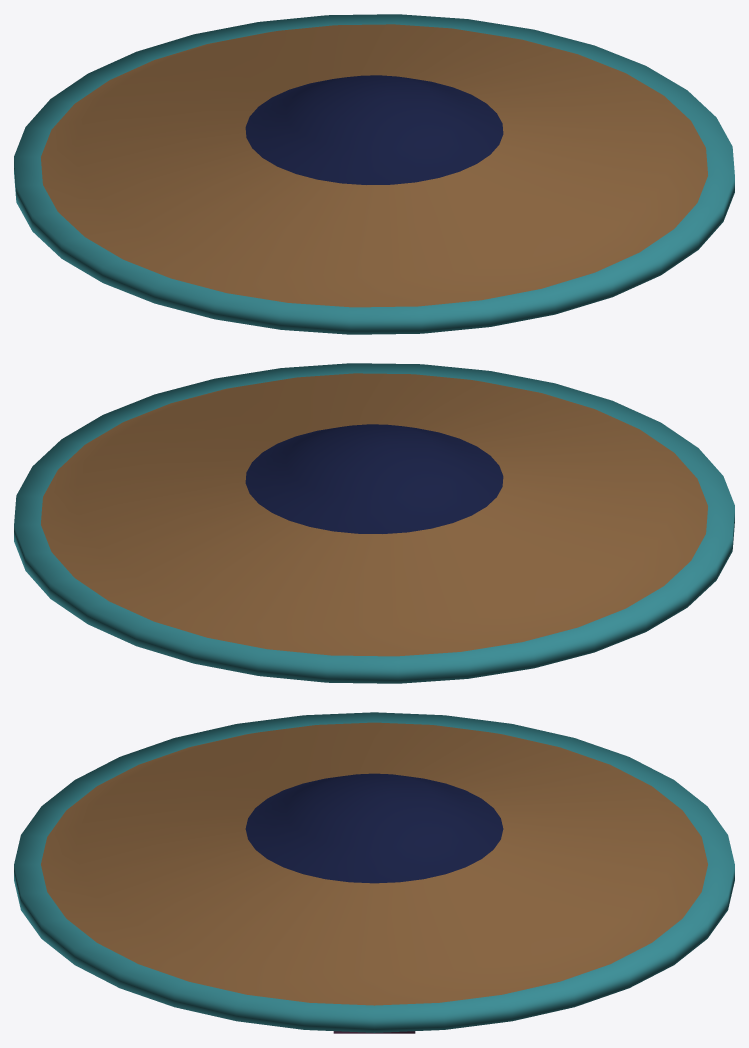
Rendered from Shield.fbx.
3 views of the same model, one above another, from view 1: azimuth 30°, elevation 25°; view 2: azimuth 150°, elevation 25°; view 3: azimuth 270°, elevation 25° (orthographic).
Parts seen in each view (by area): view 1: LOWPOLY; view 2: LOWPOLY; view 3: LOWPOLY.
Part boxes in pixels (left/top/right/bottom): LOWPOLY: left=14, top=14, right=734, bottom=334; LOWPOLY: left=14, top=363, right=734, bottom=683; LOWPOLY: left=14, top=712, right=734, bottom=1033.
Size of the model in its own units: 80.44 by 21.08 by 80.44.
